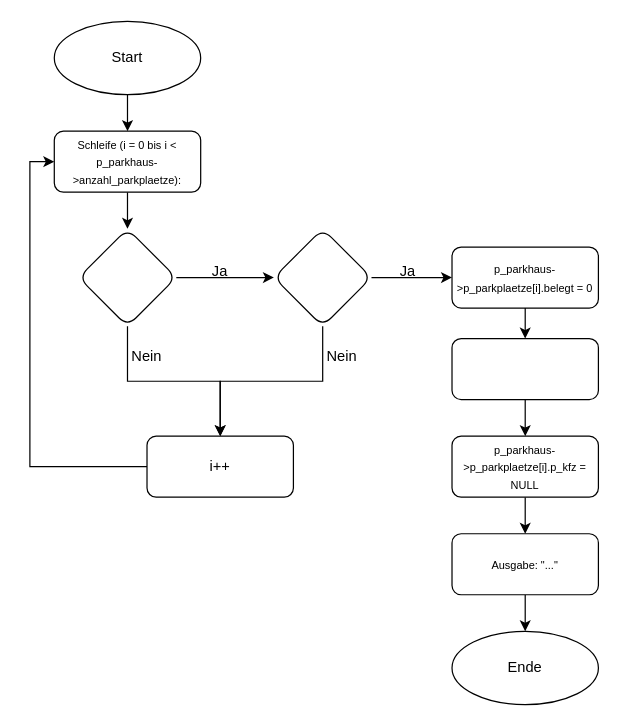
The diagram is 620 pixels wide and 726 high, and some of its shapes have lost their labels. Each missing label, with the centre of its shape:
"free(p_parkhaus->p_parkplaetze[i].p_kfz)" belongs at point (524, 368).
"p_parkhaus->p_parkplaetze[i].p_kfz != NULL ?" belongs at point (126, 277).
"p_parkhaus->p_parkplaetze[i].p_kfz->verbleibende_parkdauer < 0 ?" belongs at point (322, 277).
